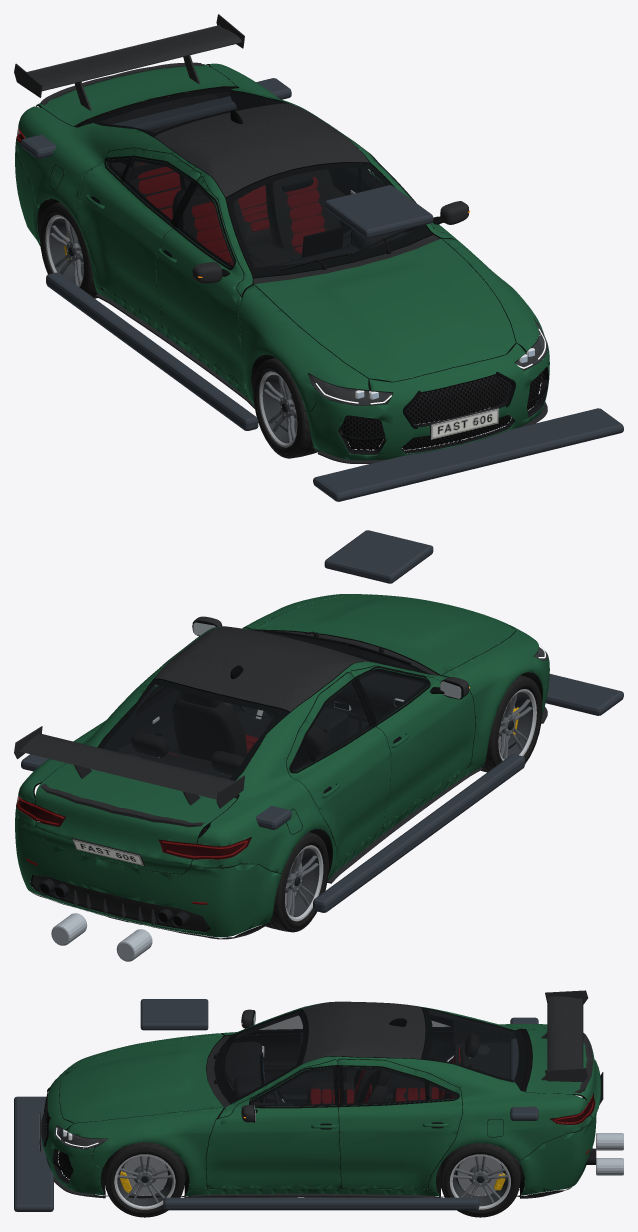
The model's file is car_sehir_ustasi.glb.
3 renders of one model, top to bottom at view 1: azimuth 30°, elevation 25°; view 2: azimuth 150°, elevation 25°; view 3: azimuth 270°, elevation 25°, orthographic. The views are drawn at different scales.
Parts seen in each view (by area): view 1: Body, Mod_Splitter, Mod_Skirt_-1, Wheel_FR, Mod_Hood, Wheel_RR, Mod_Wing; view 2: Body, Mod_Skirt_-1, Wheel_RR, Mod_Hood, Wheel_FR, Mod_Splitter, Mod_Wing, Mod_Exhaust_1, Mod_Exhaust_-1; view 3: Body, Wheel_FL, Wheel_RL, Mod_Skirt_1, Mod_Splitter, Mod_Hood, Mod_Wing, Mod_Exhaust_1, Mod_Exhaust_-1.
Part boxes in pixels (left/top/right/bottom): Body: left=14, top=14, right=549, bottom=463; Mod_Splitter: left=313, top=408, right=623, bottom=501; Mod_Skirt_-1: left=46, top=272, right=258, bottom=430; Wheel_FR: left=253, top=357, right=320, bottom=458; Mod_Hood: left=324, top=185, right=433, bottom=238; Wheel_RR: left=40, top=202, right=98, bottom=298; Mod_Wing: left=21, top=78, right=291, bottom=158; Body: left=14, top=594, right=549, bottom=939; Mod_Skirt_-1: left=313, top=754, right=525, bottom=912; Wheel_RR: left=262, top=832, right=328, bottom=932; Mod_Hood: left=324, top=530, right=433, bottom=583; Wheel_FR: left=481, top=675, right=542, bottom=772; Mod_Splitter: left=545, top=674, right=623, bottom=715; Mod_Wing: left=21, top=754, right=291, bottom=829; Mod_Exhaust_1: left=51, top=913, right=87, bottom=945; Mod_Exhaust_-1: left=116, top=929, right=152, bottom=961; Body: left=39, top=990, right=603, bottom=1198; Wheel_FL: left=104, top=1142, right=185, bottom=1217; Wheel_RL: left=440, top=1143, right=520, bottom=1217; Mod_Skirt_1: left=163, top=1197, right=479, bottom=1210; Mod_Splitter: left=14, top=1096, right=53, bottom=1211; Mod_Hood: left=140, top=999, right=208, bottom=1030; Mod_Wing: left=510, top=1017, right=538, bottom=1120; Mod_Exhaust_1: left=596, top=1158, right=623, bottom=1175; Mod_Exhaust_-1: left=596, top=1133, right=623, bottom=1150.
Size of the model in its own units: 2.23 by 1.52 by 5.2.
Materials: 63 (12 with a texture image).
